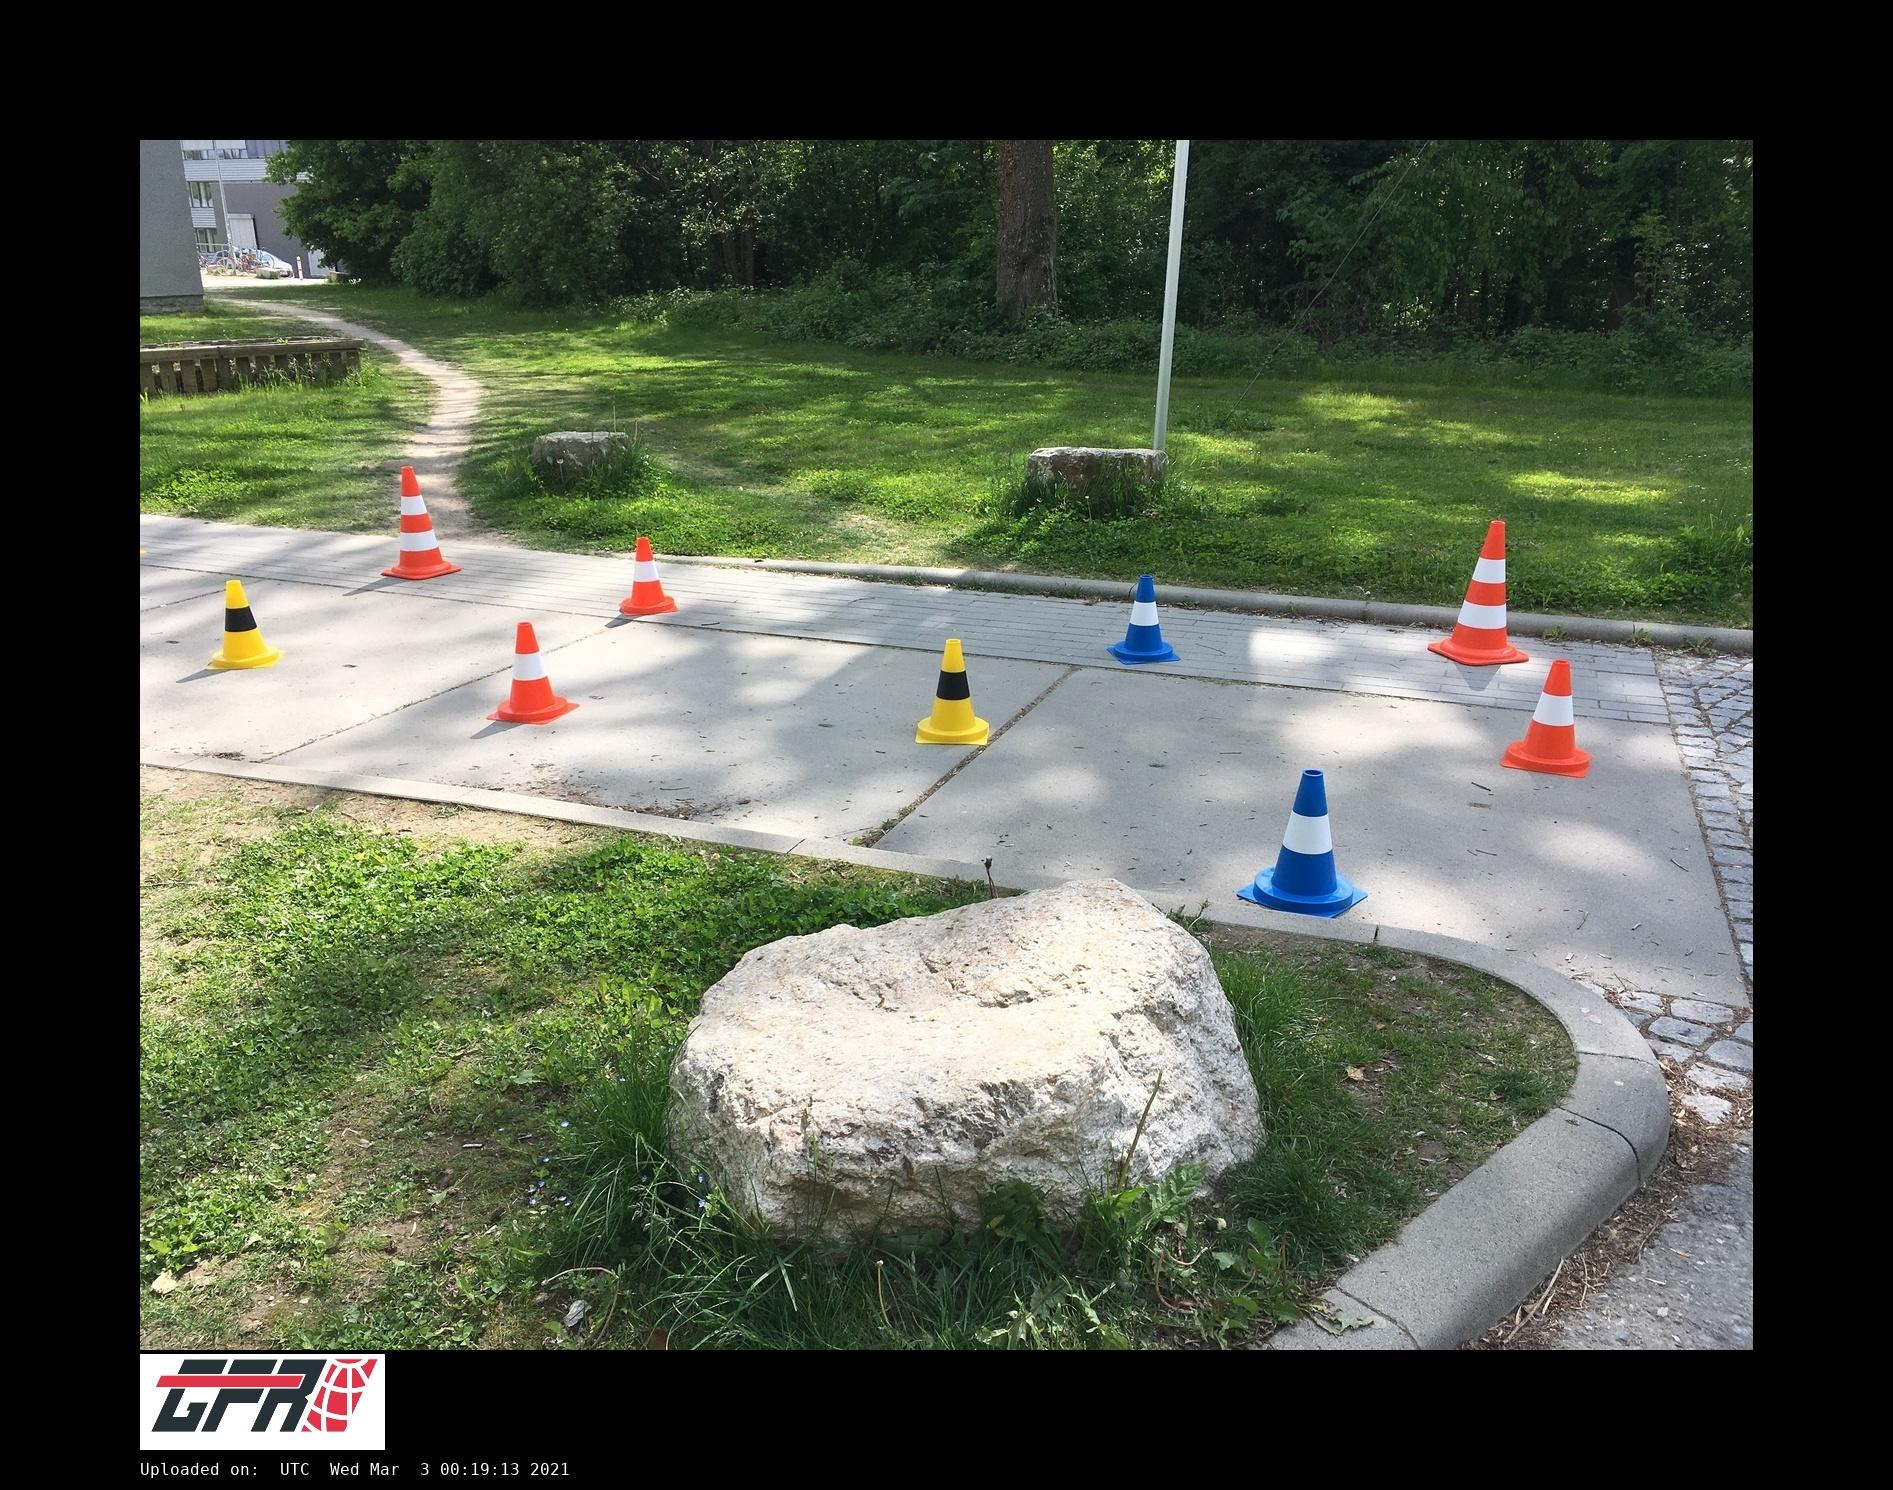blue_cone: (1238, 770, 1368, 916), (1107, 576, 1181, 665)
large_orange_cone: (1430, 521, 1529, 665), (382, 467, 461, 580)
orange_cone: (1504, 659, 1589, 779), (487, 622, 578, 725), (620, 538, 679, 616)
yellow_cone: (915, 639, 989, 745), (211, 580, 285, 669)
